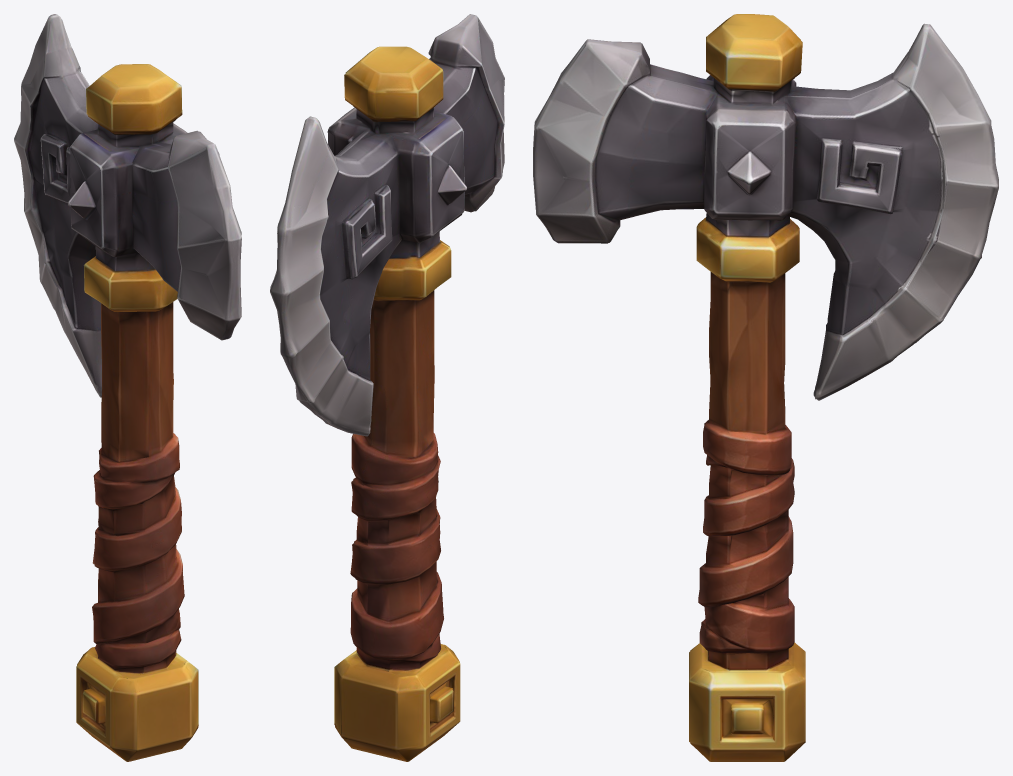
The model's file is axe.glb.
The picture shows the model from 3 angles, left to right: view 1: azimuth 30°, elevation 25°; view 2: azimuth 150°, elevation 25°; view 3: azimuth 270°, elevation 25°; orthographic projection. The views are drawn at different scales.
Parts seen in each view (by area): view 1: tripo_node_6340edcf-d4da-4fe9-a993-5966b6b6413f; view 2: tripo_node_6340edcf-d4da-4fe9-a993-5966b6b6413f; view 3: tripo_node_6340edcf-d4da-4fe9-a993-5966b6b6413f.
Part boxes in pixels (bbox=[...]): tripo_node_6340edcf-d4da-4fe9-a993-5966b6b6413f: bbox=[14, 14, 241, 761]; tripo_node_6340edcf-d4da-4fe9-a993-5966b6b6413f: bbox=[270, 14, 504, 761]; tripo_node_6340edcf-d4da-4fe9-a993-5966b6b6413f: bbox=[533, 14, 998, 761].
Bounding box in the file's own units: 0.2133 × 1 × 0.5851.
1 material, 1 textured.
